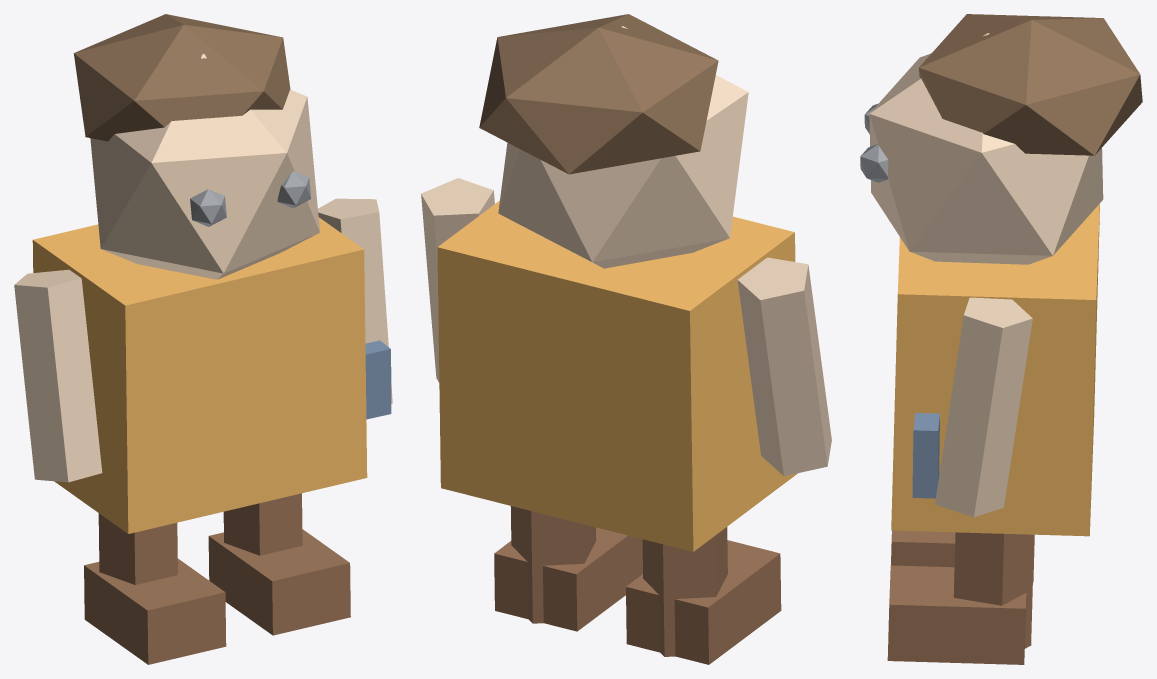
File: npcpose_villager_idle_09.glb
3 views of the same model, side by side, from view 1: azimuth 30°, elevation 25°; view 2: azimuth 150°, elevation 25°; view 3: azimuth 270°, elevation 25° (orthographic). The views are drawn at different scales.
Visible parts, largest first — view 1: npcpose; view 2: npcpose; view 3: npcpose.
Boxes of the visible parts, x1=… form: npcpose: x1=14, y1=14, x2=392, y2=664; npcpose: x1=421, y1=14, x2=831, y2=664; npcpose: x1=860, y1=14, x2=1142, y2=664.
Size of the model in its own units: 0.6988 by 1.06 by 0.4549.
